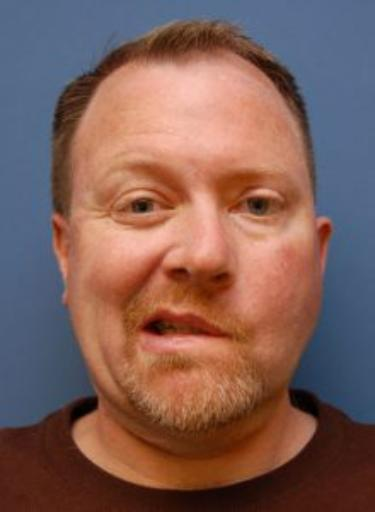left_eye: (230, 195, 286, 222)
left_lip_corner: (221, 327, 237, 349)
right_eye: (115, 195, 174, 221)
right_lip_corner: (135, 318, 153, 343)
